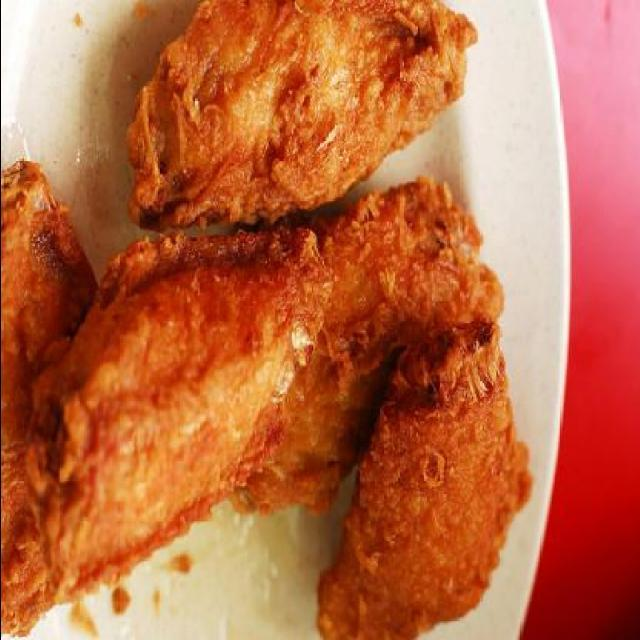Deep fried chicken wing: (27, 17, 524, 617)
